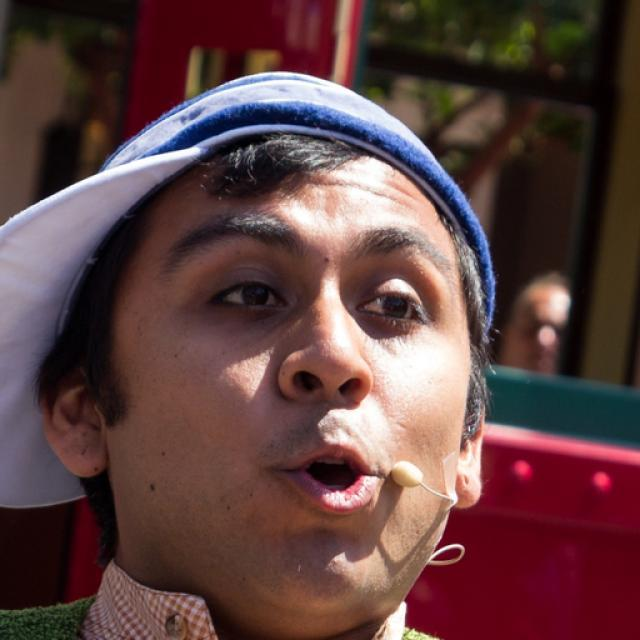surprise: (114, 156, 468, 640)
